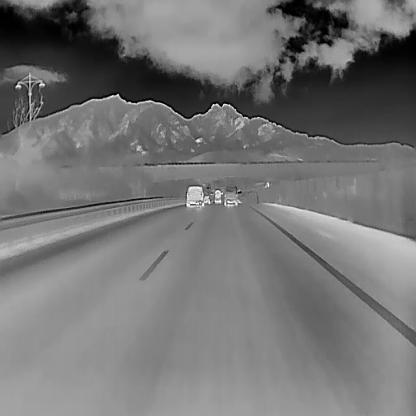car: (184, 184, 204, 206), (223, 184, 237, 206), (202, 190, 211, 203)
truck: (213, 188, 222, 204)
